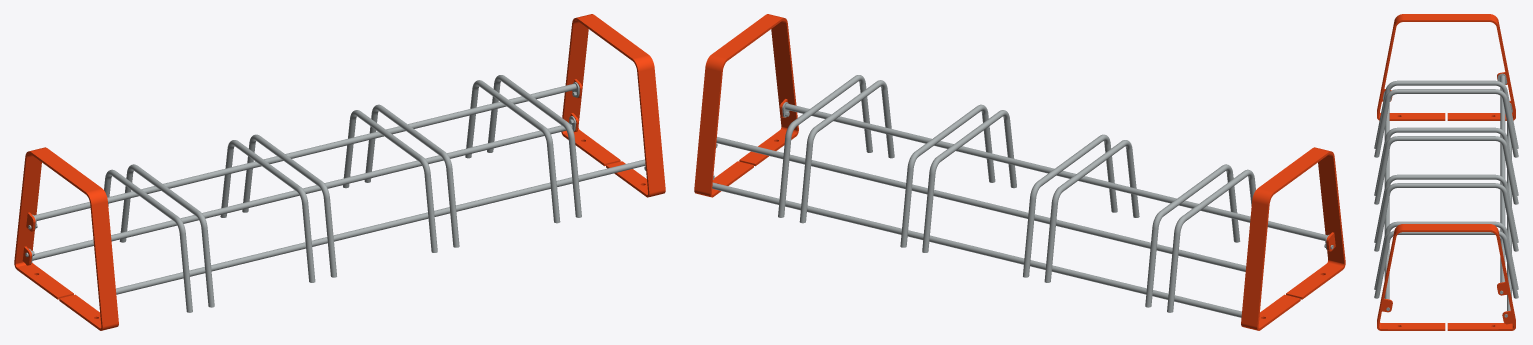
The model's file is K8_module.glb.
The picture shows the model from 3 angles, left to right: view 1: azimuth 30°, elevation 25°; view 2: azimuth 150°, elevation 25°; view 3: azimuth 270°, elevation 25°; orthographic projection. The views are drawn at different scales.
Visible parts, largest first — view 1: K8_module; view 2: K8_module; view 3: K8_module.
Part boxes in pixels (left/top/right/bottom): K8_module: left=14, top=14, right=665, bottom=330; K8_module: left=694, top=14, right=1345, bottom=330; K8_module: left=1374, top=14, right=1518, bottom=330.
Bounding box in the file's own units: 2.07 × 0.45 × 0.585.
